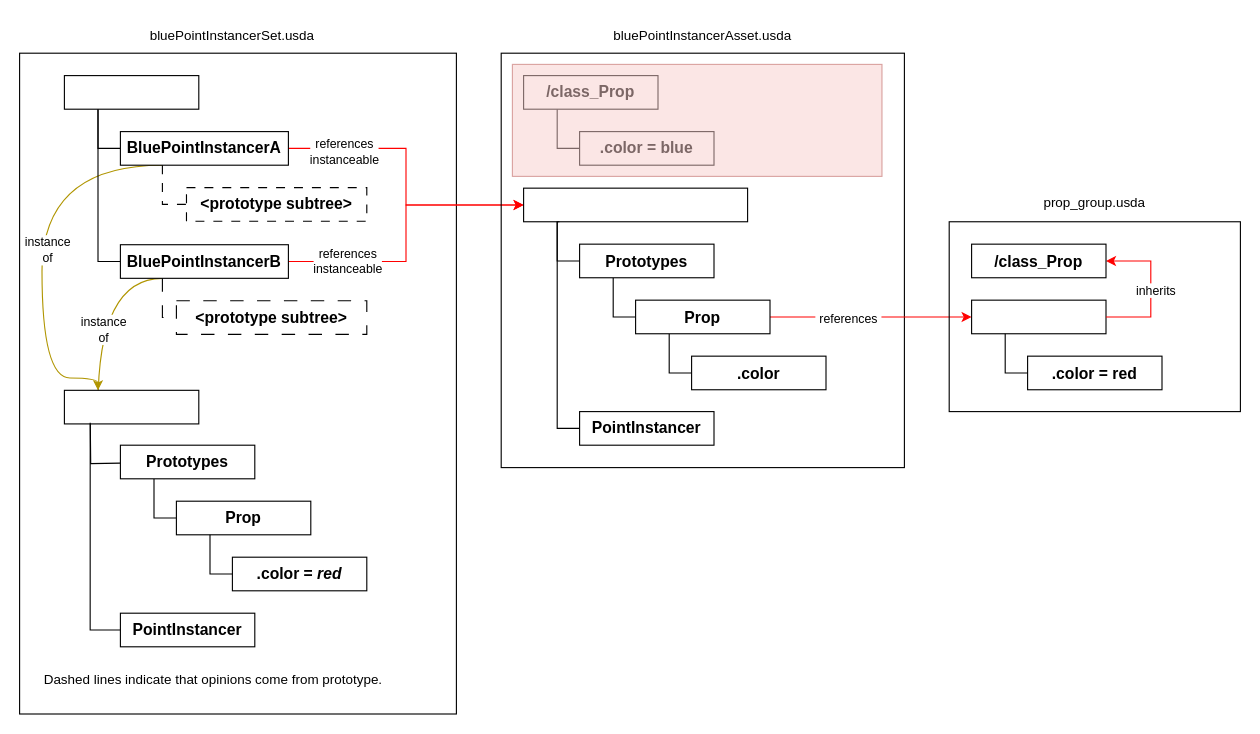
This 1260x734 diagram has some shape labels left out. Here are the shapes that lost their labels. From the top down, the box of each, then its label:
(63, 74, 199, 109): /Set
(511, 63, 882, 176): This override would be ignored under proposed solution
(522, 187, 748, 222): /BluePointInstancerAsset
(970, 299, 1106, 334): /Prop
(63, 389, 199, 424): /__Prototype_1
